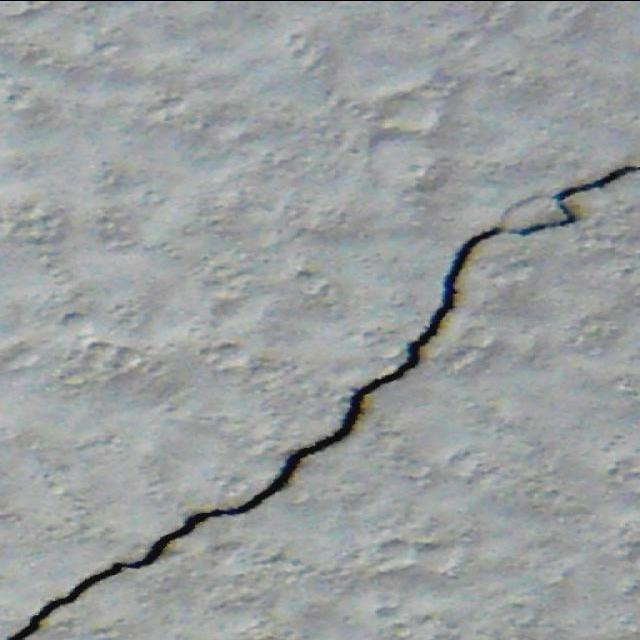Crack: (5, 160, 638, 638)
